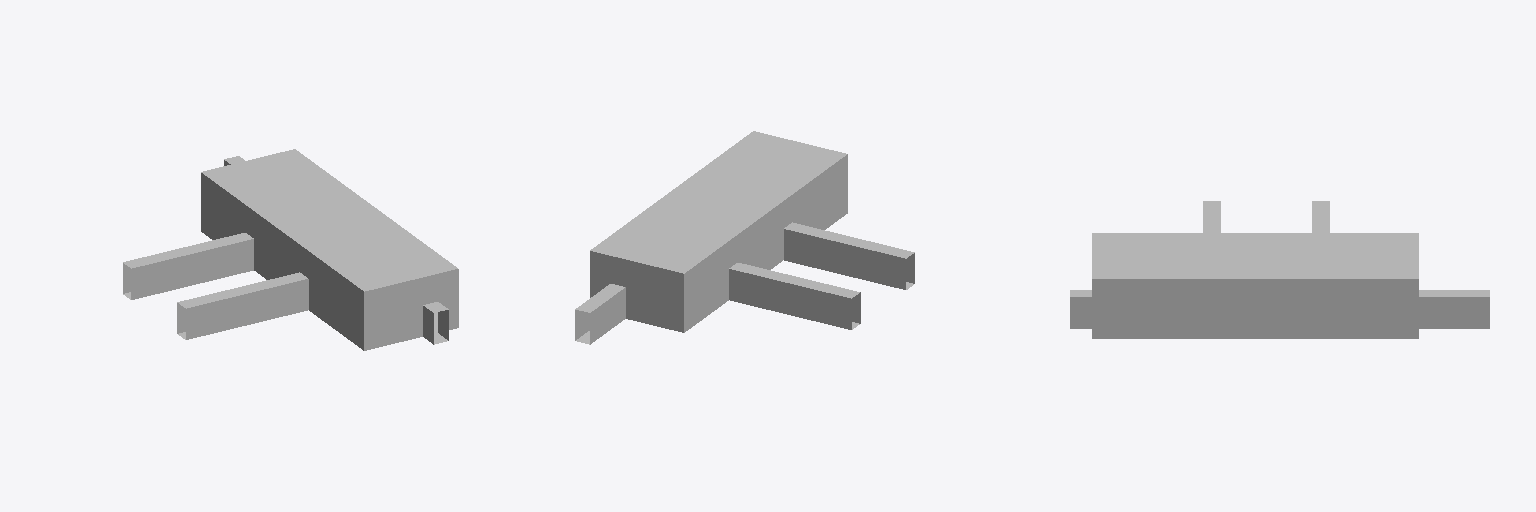
The model's file is conveyor room collision.obj.
3 renders of one model, left to right at view 1: azimuth 30°, elevation 25°; view 2: azimuth 150°, elevation 25°; view 3: azimuth 270°, elevation 25°, orthographic.
Visible parts, largest first — view 1: result.010_Cube.027; view 2: result.010_Cube.027; view 3: result.010_Cube.027.
Part boxes in pixels (left/top/right/bottom): result.010_Cube.027: left=123, top=149, right=458, bottom=350; result.010_Cube.027: left=575, top=131, right=914, bottom=344; result.010_Cube.027: left=1070, top=201, right=1489, bottom=338.
Bounding box in the file's own units: 23 × 6 × 38.5.